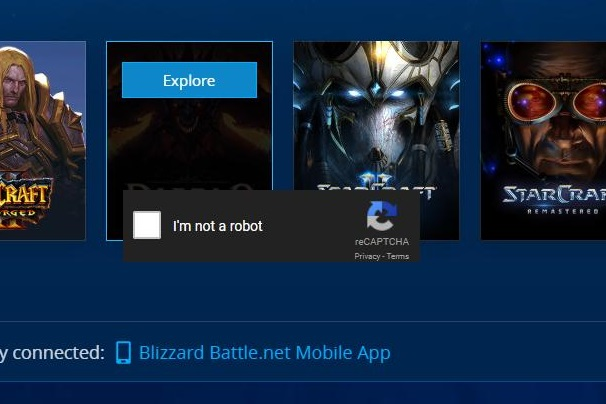captcha: (133, 211, 266, 238)
